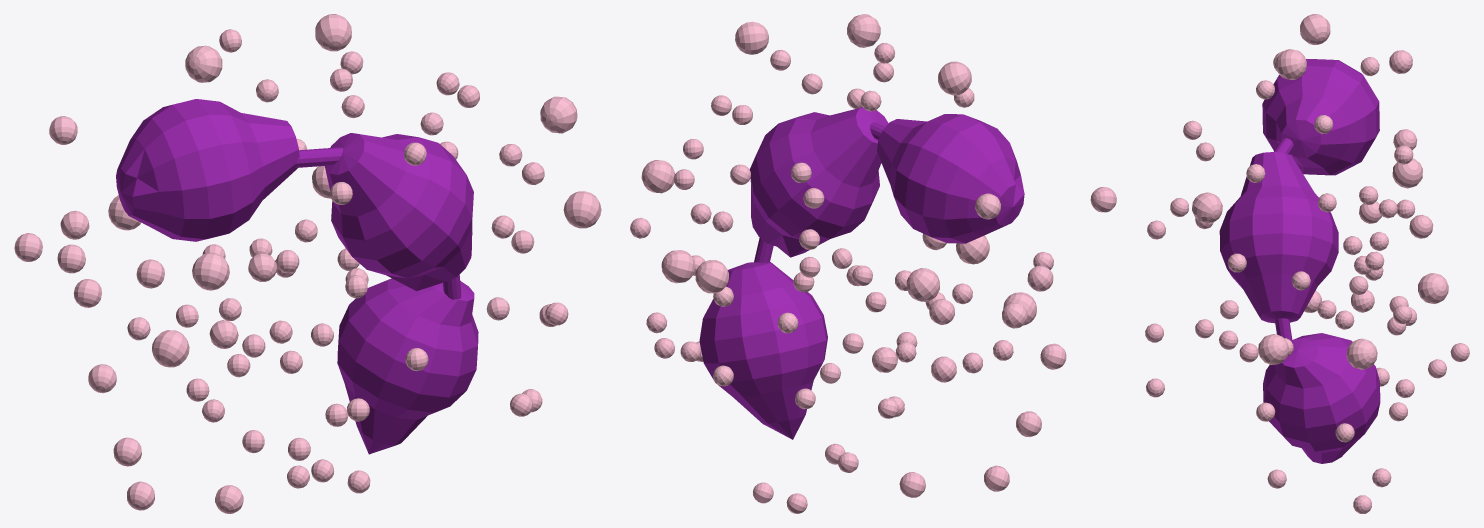
3 views of the same model, side by side, from view 1: azimuth 30°, elevation 25°; view 2: azimuth 150°, elevation 25°; view 3: azimuth 270°, elevation 25° (orthographic). The views are drawn at different scales.
Visible parts, largest first — view 1: mesh_1342573826, mesh_1013758366, mesh_309895919, mesh_1333205387, mesh_1134961427, mesh_1972625439, mesh_1076835853, mesh_1989945592, mesh_1575044809, mesh_758092730, mesh_75788494, mesh_344116724 (+10 smaller); view 2: mesh_309895919, mesh_1013758366, mesh_1342573826, mesh_1076835853, mesh_1864739159, mesh_1628788373, mesh_733315958, mesh_1972625439, mesh_1989945592, mesh_1575044809, mesh_1333205387, mesh_1688960319 (+9 smaller); view 3: mesh_1013758366, mesh_309895919, mesh_1342573826, mesh_1989945592, mesh_1575044809, mesh_1628788373, mesh_1076835853, mesh_1864739159, mesh_1972625439, mesh_733315958, mesh_1339968158, mesh_1688960319 (+3 smaller).
Part boxes in pixels (left/top/right/bottom): mesh_1342573826: left=116, top=99, right=299, bottom=241; mesh_1013758366: left=325, top=133, right=473, bottom=291; mesh_309895919: left=337, top=278, right=478, bottom=454; mesh_1333205387: left=192, top=252, right=229, bottom=290; mesh_1134961427: left=152, top=330, right=189, bottom=367; mesh_1972625439: left=563, top=191, right=601, bottom=228; mesh_1076835853: left=185, top=45, right=222, bottom=82; mesh_1989945592: left=315, top=14, right=351, bottom=51; mesh_1575044809: left=540, top=96, right=577, bottom=133; mesh_758092730: left=294, top=147, right=343, bottom=167; mesh_75788494: left=57, top=244, right=85, bottom=273; mesh_344116724: left=136, top=259, right=164, bottom=288; mesh_309895919: left=699, top=262, right=827, bottom=439; mesh_1013758366: left=749, top=107, right=888, bottom=257; mesh_1342573826: left=877, top=114, right=1024, bottom=243; mesh_1076835853: left=938, top=61, right=971, bottom=95; mesh_1864739159: left=695, top=260, right=728, bottom=293; mesh_1628788373: left=661, top=250, right=695, bottom=283; mesh_733315958: left=906, top=268, right=939, bottom=301; mesh_1972625439: left=641, top=160, right=675, bottom=193; mesh_1989945592: left=847, top=14, right=880, bottom=47; mesh_1575044809: left=735, top=21, right=768, bottom=54; mesh_1333205387: left=956, top=235, right=989, bottom=264; mesh_1688960319: left=931, top=356, right=956, bottom=382; mesh_1013758366: left=1219, top=152, right=1338, bottom=323; mesh_309895919: left=1263, top=333, right=1380, bottom=463; mesh_1342573826: left=1262, top=59, right=1379, bottom=175; mesh_1989945592: left=1276, top=49, right=1306, bottom=79; mesh_1575044809: left=1192, top=192, right=1222, bottom=223; mesh_1628788373: left=1346, top=338, right=1377, bottom=369; mesh_1076835853: left=1300, top=14, right=1330, bottom=44; mesh_1864739159: left=1418, top=273, right=1448, bottom=303; mesh_1972625439: left=1258, top=334, right=1288, bottom=364; mesh_733315958: left=1392, top=158, right=1422, bottom=188; mesh_1339968158: left=1389, top=50, right=1412, bottom=73; mesh_1688960319: left=1409, top=214, right=1433, bottom=238.
Size of the model in its own units: 79.5 by 75.27 by 50.96.
